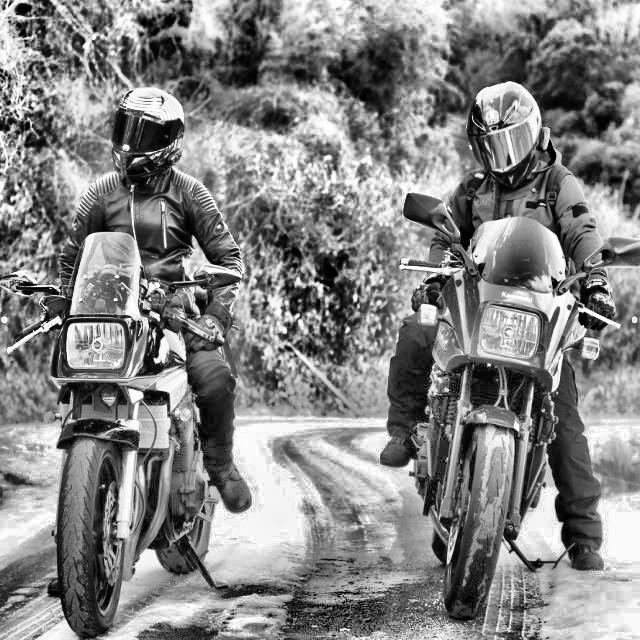Helmet: (464, 78, 550, 192), (108, 81, 189, 190)
